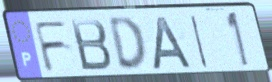1: (224, 10, 252, 70)
A: (151, 15, 195, 72)
B: (68, 17, 114, 73)
D: (106, 15, 149, 73)
F: (32, 18, 71, 74)
I: (189, 13, 210, 71)
